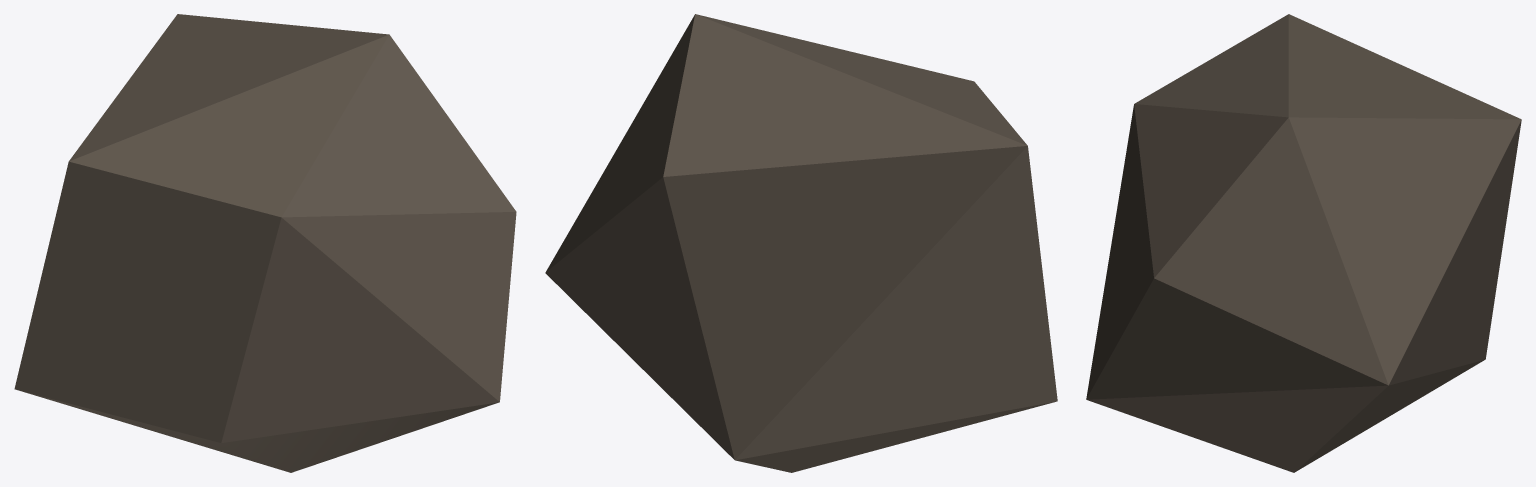
File: SM_Pebble_Debris_02.fbx
3 renders of one model, left to right at view 1: azimuth 30°, elevation 25°; view 2: azimuth 150°, elevation 25°; view 3: azimuth 270°, elevation 25°, orthographic. The views are drawn at different scales.
Parts seen in each view (by area): view 1: SM_Pebble_Debris_02_LOD0; view 2: SM_Pebble_Debris_02_LOD0; view 3: SM_Pebble_Debris_02_LOD0.
Boxes of the visible parts, x1,y1,x2,y2 form: SM_Pebble_Debris_02_LOD0: (14,14,516,472); SM_Pebble_Debris_02_LOD0: (545,14,1057,472); SM_Pebble_Debris_02_LOD0: (1086,14,1521,472).
Bounding box in the file's own units: 22.96 × 26.58 × 23.29.
Materials: 1 (1 with a texture image).
